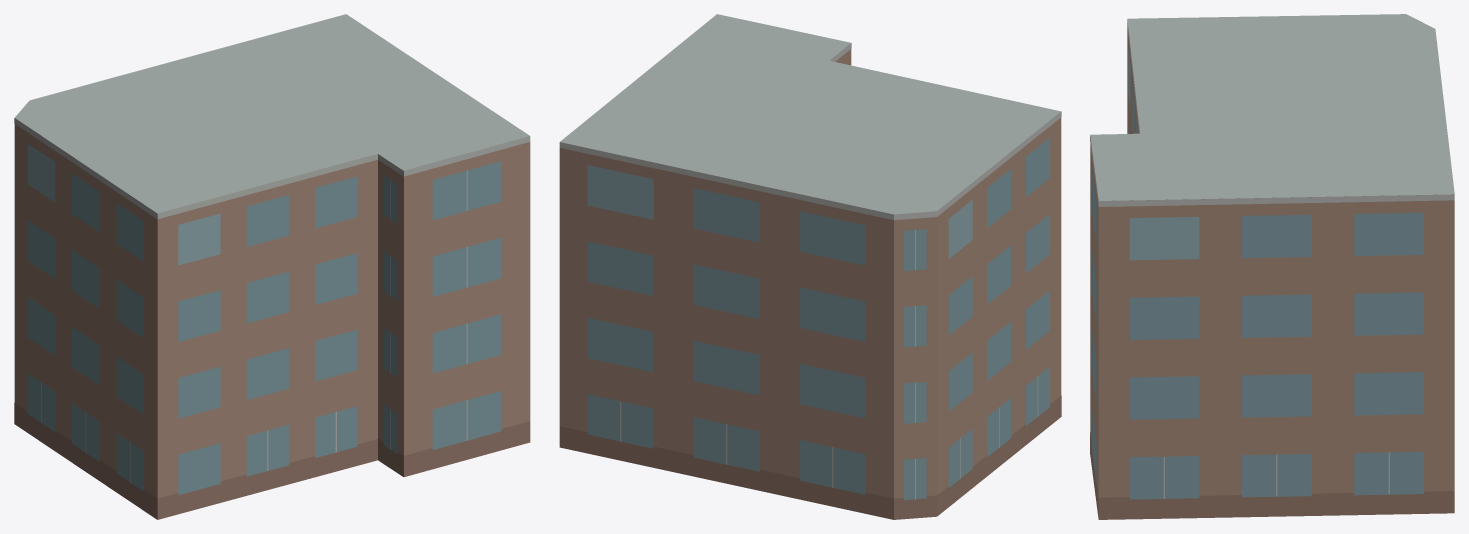
Rendered from survey-upis-32731969.glb.
3 views of the same model, side by side, from view 1: azimuth 30°, elevation 25°; view 2: azimuth 150°, elevation 25°; view 3: azimuth 270°, elevation 25° (orthographic). The views are drawn at different scales.
Parts seen in each view (by area): view 1: survey-upis-32731969.tmp; view 2: survey-upis-32731969.tmp; view 3: survey-upis-32731969.tmp.
Part boxes in pixels (x1,y1,x2,y2): survey-upis-32731969.tmp: [14, 14, 530, 519]; survey-upis-32731969.tmp: [559, 14, 1061, 519]; survey-upis-32731969.tmp: [1090, 14, 1454, 519].
Bounding box in the file's own units: 16.41 × 13.04 × 13.53.
